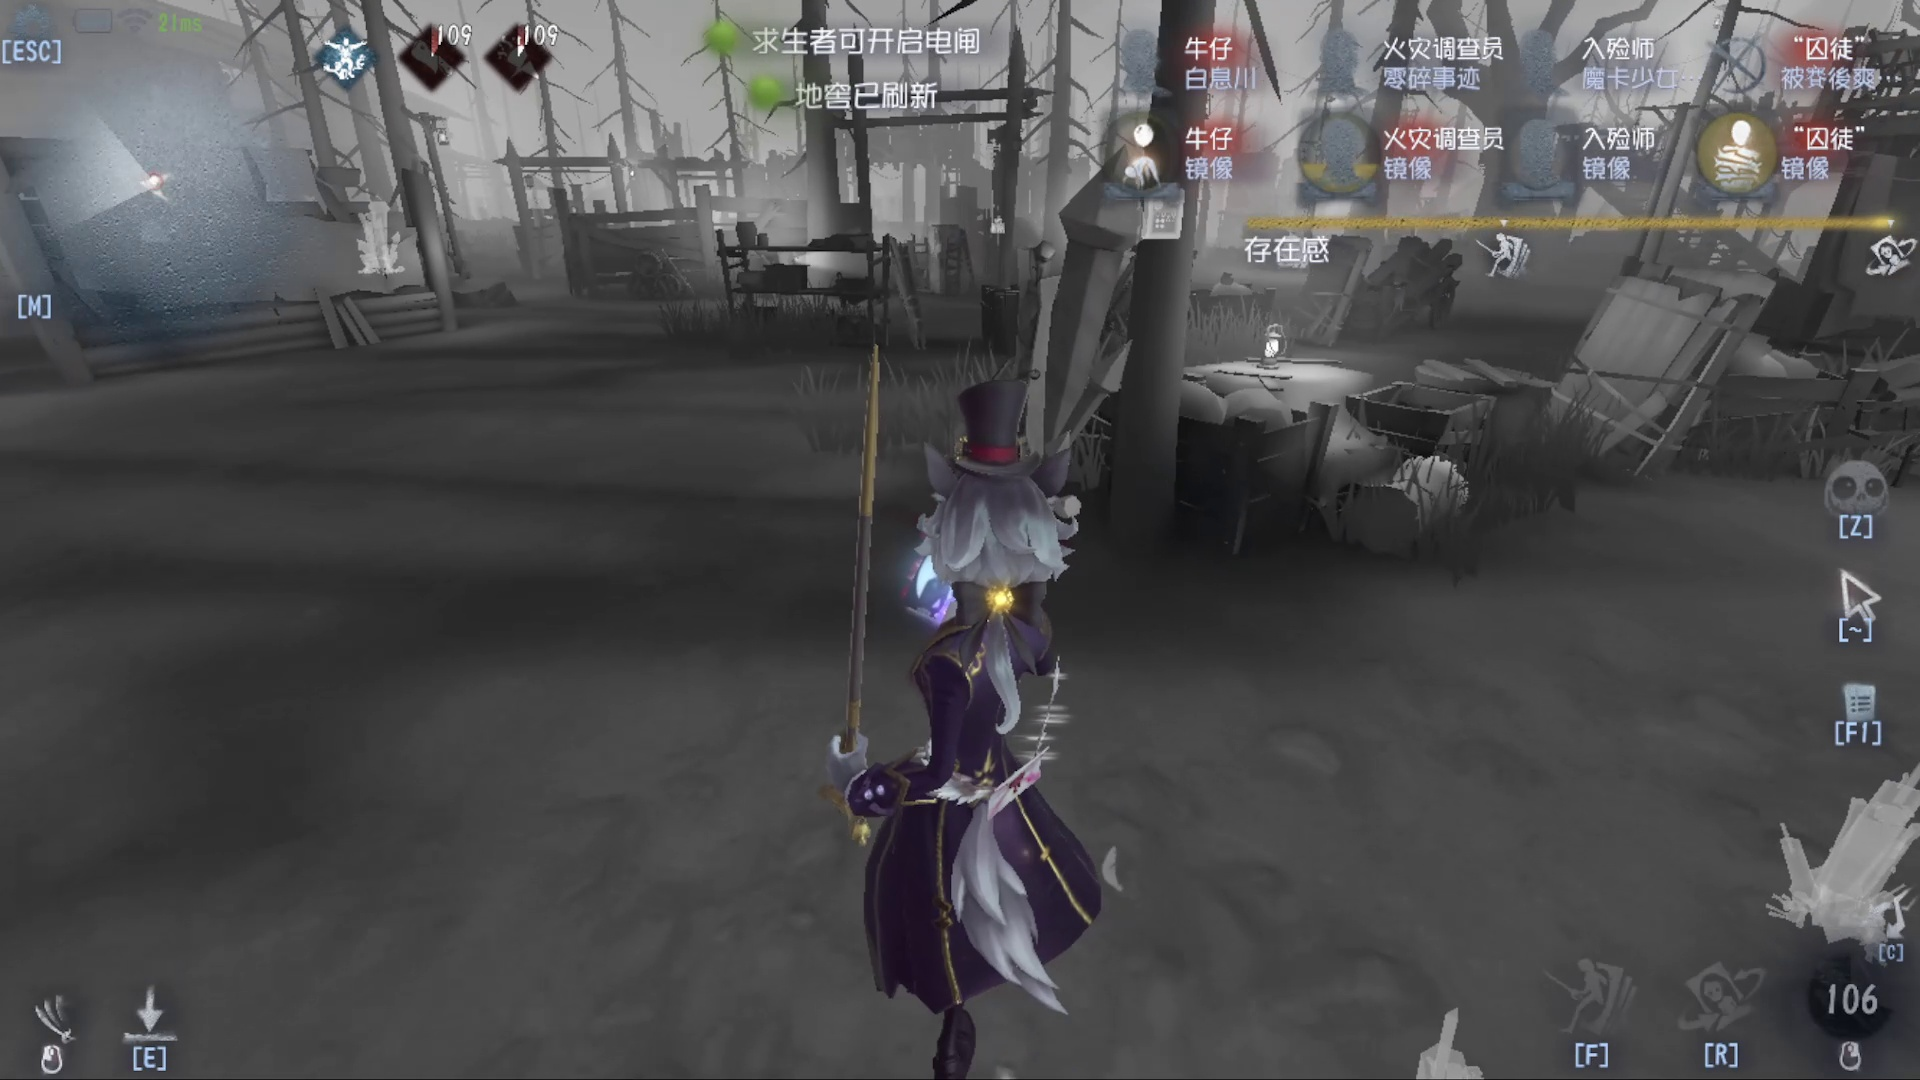木板: (1545, 225, 1749, 506), (844, 215, 978, 359)
